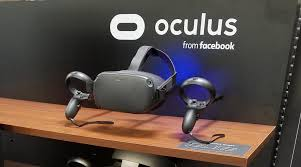oculus: (93, 67, 171, 115)
